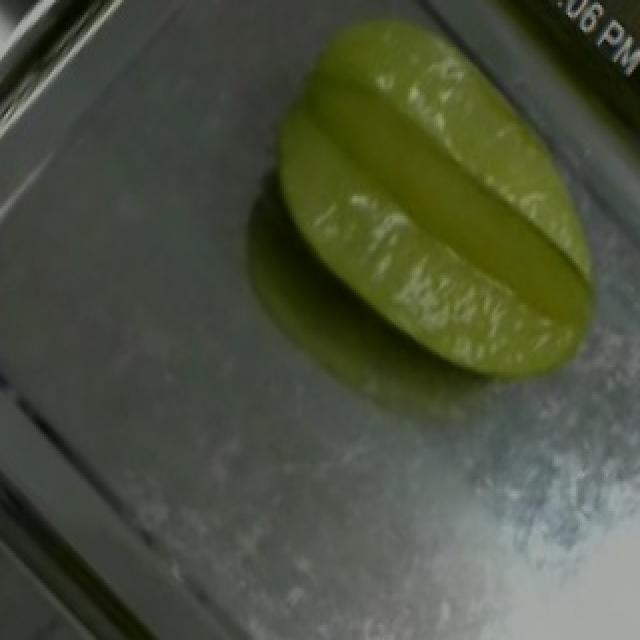fruit: (236, 0, 634, 337)
